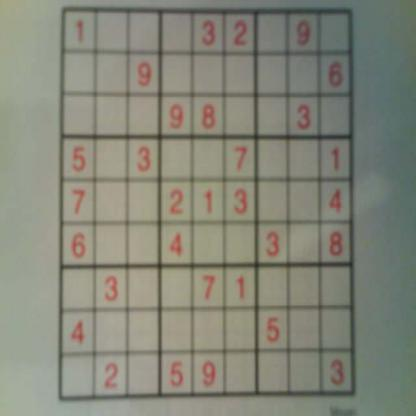sudoku: (56, 2, 360, 406)
